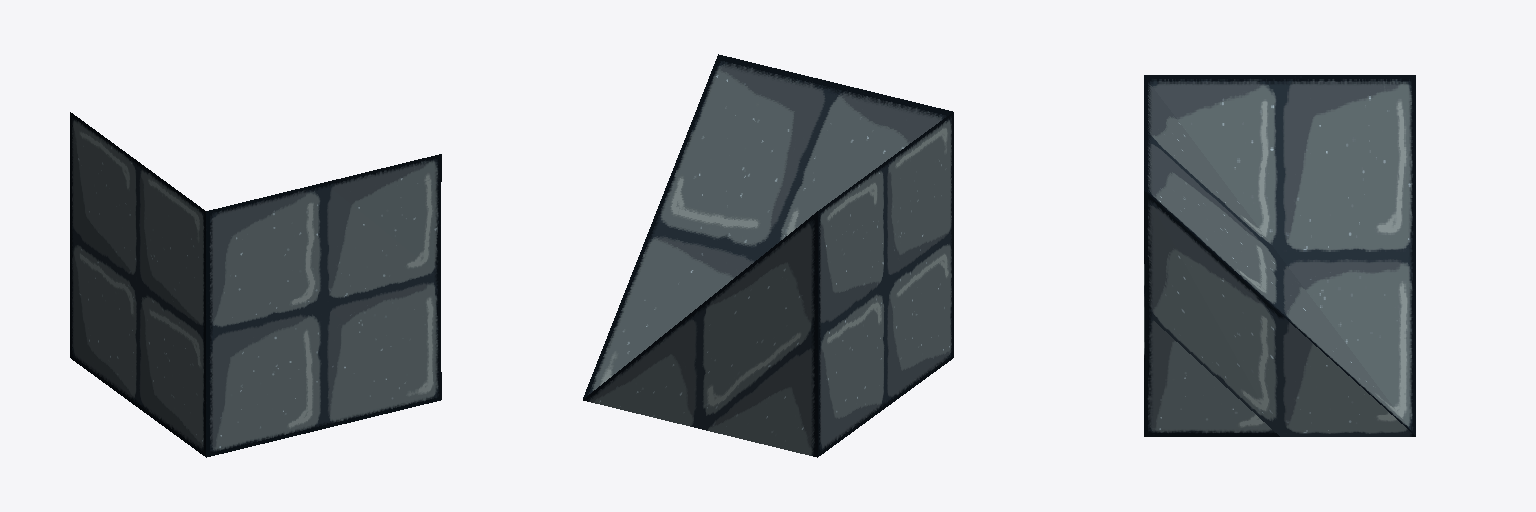
3 views of the same model, side by side, from view 1: azimuth 30°, elevation 25°; view 2: azimuth 150°, elevation 25°; view 3: azimuth 270°, elevation 25° (orthographic).
Parts seen in each view (by area): view 1: 6_stone; view 2: 6_stone; view 3: 6_stone.
Boxes of the visible parts, <box> form: 6_stone: <box>70,112,441,457</box>; 6_stone: <box>583,54,953,457</box>; 6_stone: <box>1144,75,1415,436</box>.
Size of the model in its own units: 1 by 1 by 1.
Materials: 1 (1 with a texture image).